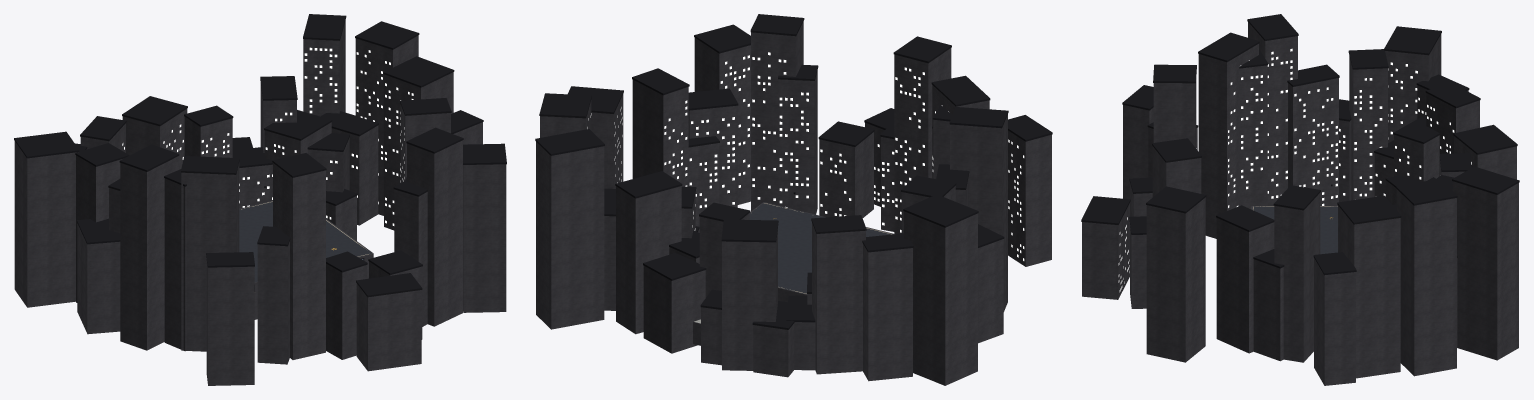
The model's file is InkboundMaps.fbx.
The picture shows the model from 3 angles, left to right: view 1: azimuth 30°, elevation 25°; view 2: azimuth 150°, elevation 25°; view 3: azimuth 270°, elevation 25°; orthographic projection. The views are drawn at different scales.
Parts seen in each view (by area): view 1: Scene_Lobby_ConcreteDark_1, Scene_Lobby_BlackTrim_1, Scene_Meeting_ConcreteDark_1, Scene_Meeting_BlackTrim_1, Scene_Lobby_PlasterDark_1, Scene_Lobby_WindowLit_1; view 2: Scene_Lobby_ConcreteDark_1, Scene_Meeting_ConcreteDark_1, Scene_Lobby_BlackTrim_1, Scene_Meeting_BlackTrim_1, Scene_Lobby_PlasterDark_1, Scene_Lobby_WindowLit_1, Scene_Lobby_WindowCool_1; view 3: Scene_Lobby_ConcreteDark_1, Scene_Lobby_BlackTrim_1, Scene_Meeting_ConcreteDark_1, Scene_Meeting_BlackTrim_1, Scene_Lobby_WindowLit_1, Scene_Lobby_PlasterDark_1, Scene_Lobby_WindowCool_1.
Boxes of the visible parts, bbox=[...] form: Scene_Lobby_ConcreteDark_1: bbox=[14, 20, 506, 385]; Scene_Lobby_BlackTrim_1: bbox=[14, 14, 506, 297]; Scene_Meeting_ConcreteDark_1: bbox=[122, 84, 356, 240]; Scene_Meeting_BlackTrim_1: bbox=[122, 76, 357, 205]; Scene_Lobby_PlasterDark_1: bbox=[239, 201, 371, 282]; Scene_Lobby_WindowLit_1: bbox=[122, 47, 413, 214]; Scene_Lobby_ConcreteDark_1: bbox=[536, 21, 1051, 385]; Scene_Meeting_ConcreteDark_1: bbox=[616, 186, 815, 377]; Scene_Lobby_BlackTrim_1: bbox=[535, 14, 1052, 252]; Scene_Meeting_BlackTrim_1: bbox=[615, 171, 815, 329]; Scene_Lobby_PlasterDark_1: bbox=[749, 203, 891, 293]; Scene_Lobby_WindowLit_1: bbox=[588, 52, 1024, 260]; Scene_Lobby_WindowCool_1: bbox=[587, 55, 1024, 248]; Scene_Lobby_ConcreteDark_1: bbox=[1082, 22, 1518, 385]; Scene_Lobby_BlackTrim_1: bbox=[1081, 14, 1519, 275]; Scene_Meeting_ConcreteDark_1: bbox=[1374, 135, 1516, 204]; Scene_Meeting_BlackTrim_1: bbox=[1374, 115, 1517, 209]; Scene_Lobby_WindowLit_1: bbox=[1118, 51, 1454, 288]; Scene_Lobby_PlasterDark_1: bbox=[1252, 206, 1337, 254]; Scene_Lobby_WindowCool_1: bbox=[1118, 48, 1438, 292].
Bounding box in the file's own units: 308 × 167 × 275.
Materials: 30 (14 with a texture image).
